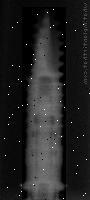DENTSPLY: (21, 7, 66, 200)
